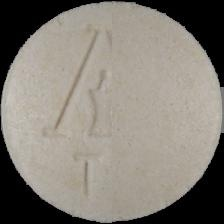0456-0457: (0, 0, 224, 224)
